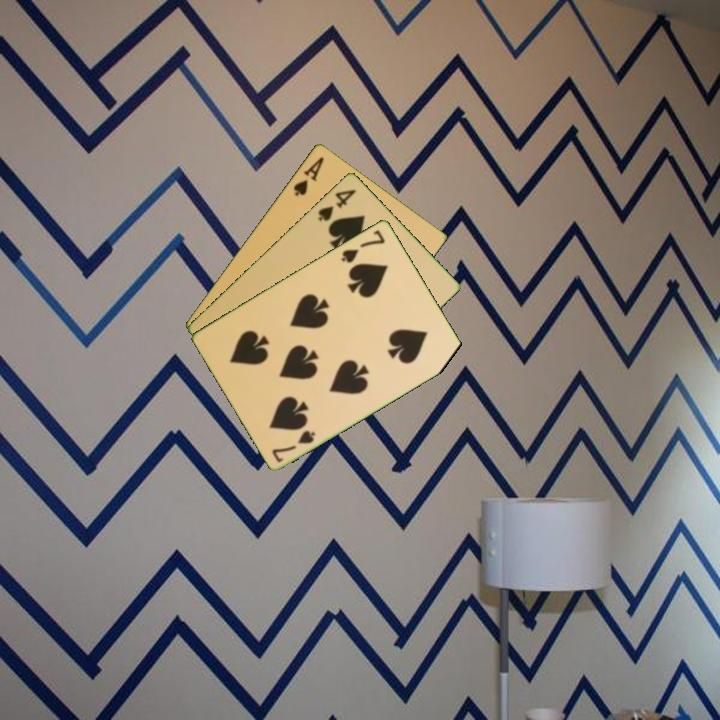4s: (314, 185, 359, 224)
7s: (337, 226, 388, 266), (268, 426, 319, 465)
As: (290, 153, 327, 199)
